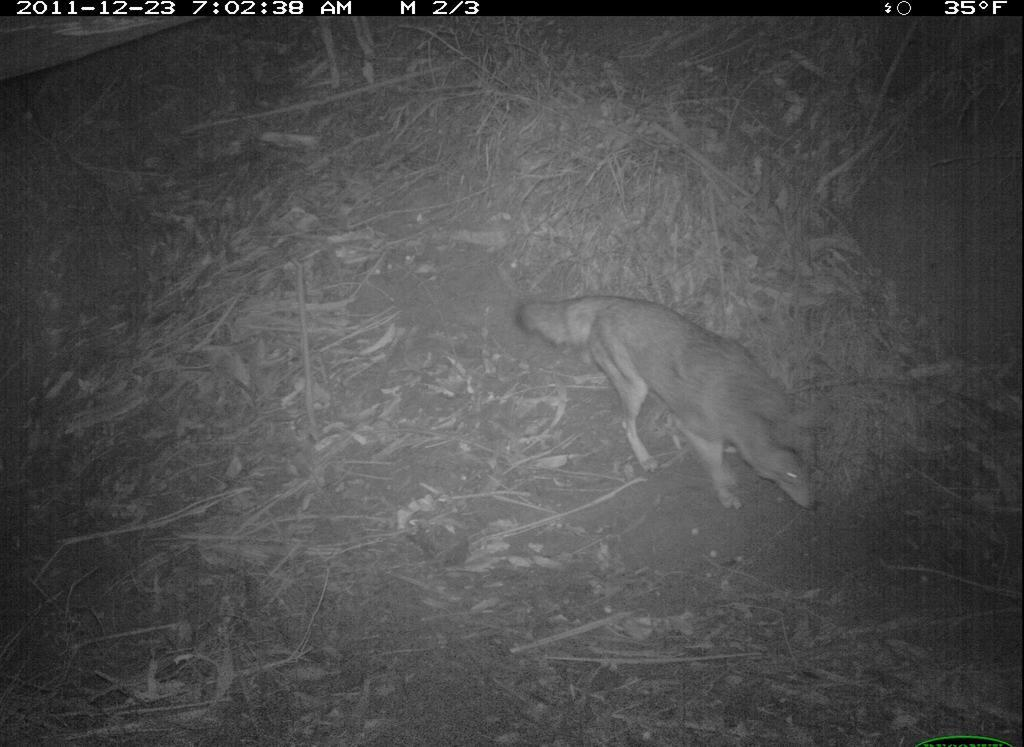coyote: (514, 269, 838, 519)
